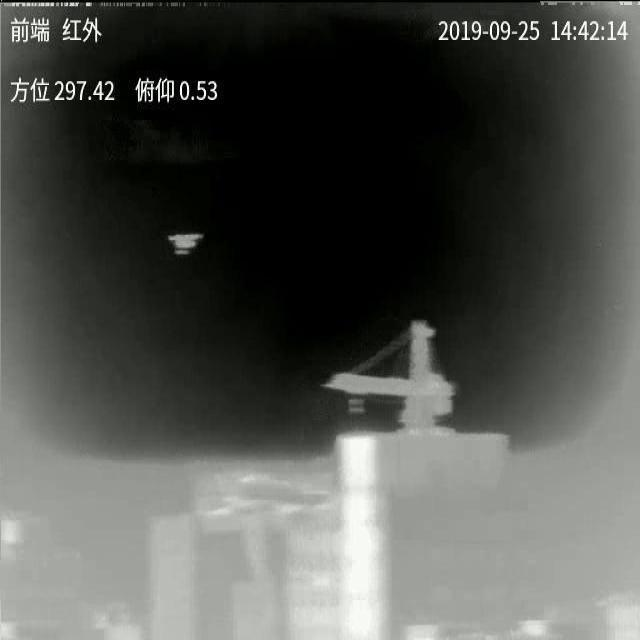drone: (168, 233, 203, 254)
